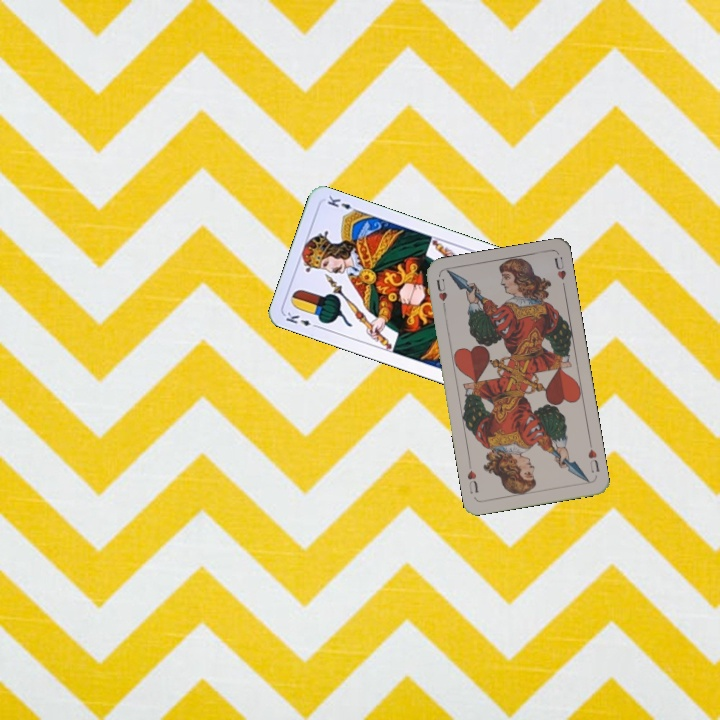EK: (282, 308, 322, 331)
HU: (432, 275, 450, 313), (584, 445, 602, 475)
